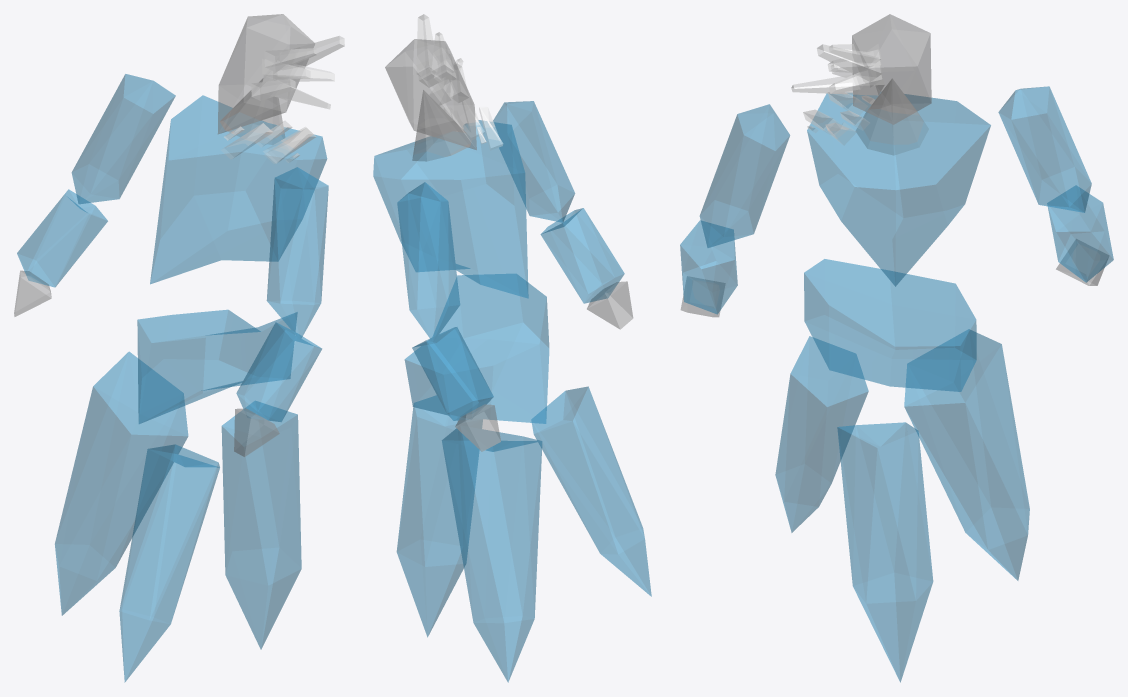
Rendered from ghostChargingLunge7.obj.
3 renders of one model, left to right at view 1: azimuth 30°, elevation 25°; view 2: azimuth 150°, elevation 25°; view 3: azimuth 270°, elevation 25°, orthographic. The views are drawn at different scales.
Parts seen in each view (by area): view 1: Cube.001_Cube.006, Icosphere.017, Icosphere.016, Icosphere.015, Cube_Cube.006, Icosphere.005_Icosphere.005, Icosphere.003_Icosphere.006, Icosphere.007_Icosphere.005, Icosphere.006_Icosphere.005, Icosphere.008_Icosphere.005, Cone_Cone.006, Cube.002_Cube.006 (+8 smaller); view 2: Cube.001_Cube.006, Icosphere.017, Cube_Cube.006, Icosphere.016, Icosphere.015, Icosphere.007_Icosphere.005, Icosphere.003_Icosphere.006, Icosphere.005_Icosphere.005, Icosphere.006_Icosphere.005, Icosphere.008_Icosphere.005, Cone_Cone.006, Cube.002_Cube.006 (+5 smaller); view 3: Cube.001_Cube.006, Icosphere.017, Cube_Cube.006, Icosphere.016, Icosphere.015, Icosphere.005_Icosphere.005, Icosphere.007_Icosphere.005, Icosphere.003_Icosphere.006, Icosphere.008_Icosphere.005, Icosphere.006_Icosphere.005, Cone_Cone.006, Cube.003_Cube.006 (+4 smaller).
Part boxes in pixels (x1,y1,x2,y2): Cube.001_Cube.006: [150, 95, 327, 284]; Icosphere.017: [55, 351, 188, 615]; Icosphere.016: [221, 401, 301, 649]; Icosphere.015: [119, 444, 219, 682]; Cube_Cube.006: [137, 309, 297, 423]; Icosphere.005_Icosphere.005: [266, 167, 328, 339]; Icosphere.003_Icosphere.006: [218, 14, 314, 134]; Icosphere.007_Icosphere.005: [71, 74, 175, 204]; Icosphere.006_Icosphere.005: [236, 322, 321, 421]; Icosphere.008_Icosphere.005: [17, 189, 107, 287]; Cone_Cone.006: [220, 78, 284, 144]; Cube.002_Cube.006: [234, 408, 279, 456]; Cube.001_Cube.006: [373, 120, 528, 298]; Icosphere.017: [442, 425, 542, 682]; Cube_Cube.006: [404, 274, 549, 423]; Icosphere.016: [396, 395, 482, 637]; Icosphere.015: [531, 386, 651, 596]; Icosphere.007_Icosphere.005: [397, 182, 460, 341]; Icosphere.003_Icosphere.006: [385, 39, 476, 149]; Icosphere.005_Icosphere.005: [493, 101, 574, 222]; Icosphere.006_Icosphere.005: [540, 208, 624, 303]; Icosphere.008_Icosphere.005: [412, 327, 493, 420]; Cone_Cone.006: [412, 90, 470, 161]; Cube.002_Cube.006: [587, 281, 633, 329]; Cube.001_Cube.006: [807, 93, 990, 286]; Icosphere.017: [904, 329, 1029, 580]; Cube_Cube.006: [804, 259, 976, 391]; Icosphere.016: [837, 422, 933, 682]; Icosphere.015: [775, 336, 868, 532]; Icosphere.005_Icosphere.005: [699, 104, 789, 247]; Icosphere.007_Icosphere.005: [998, 86, 1091, 212]; Icosphere.003_Icosphere.006: [852, 14, 931, 124]; Icosphere.008_Icosphere.005: [1047, 185, 1113, 282]; Icosphere.006_Icosphere.005: [680, 220, 737, 314]; Cone_Cone.006: [855, 78, 928, 155]; Cube.003_Cube.006: [1056, 239, 1108, 285].
Size of the model in its own units: 19.73 by 48.33 by 28.66.
